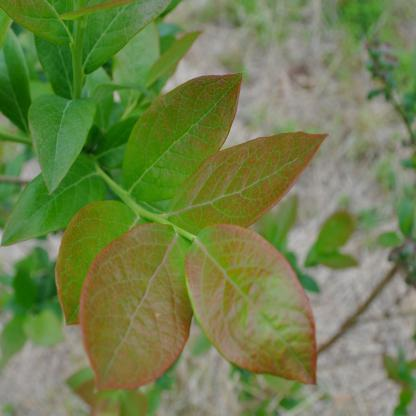Blueberry leaf: (183, 221, 344, 408), (76, 221, 199, 403), (118, 62, 249, 216), (170, 127, 336, 243), (39, 196, 144, 336)
